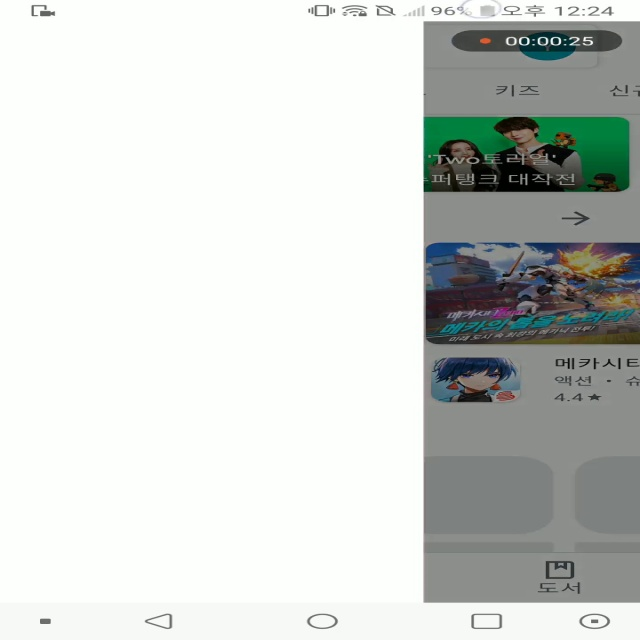Cursor: (463, 1, 505, 20)
